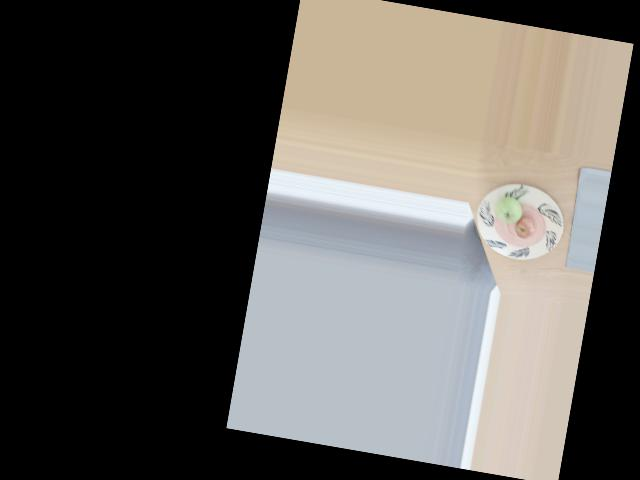apple: (491, 192, 524, 225)
